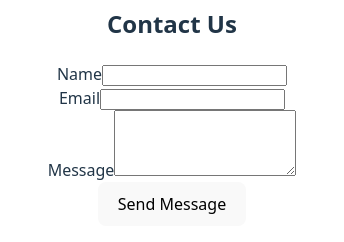
Test case: ContactForm Component › shows success message after successful submission
Fill out and submit form
Type "John Doe" into the field with test id "name-input". click: x=195, y=76
box: [102, 65, 287, 86]
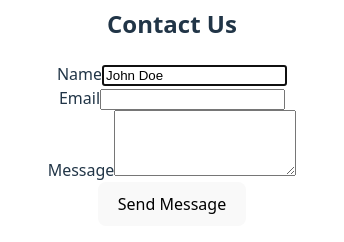
Type "john@example.com" into the field with test id "email-input". click: x=192, y=100
box: [100, 89, 285, 110]
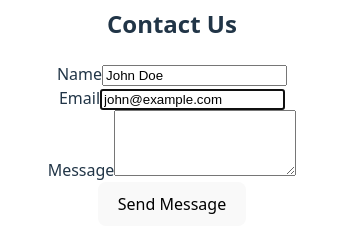
Type "Test message" into the text box with test id "message-input". click: x=205, y=143
box: [114, 110, 296, 176]
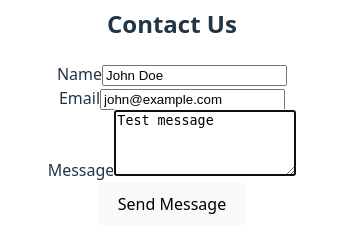
Click the button with test id "submit-button". click: x=172, y=204
box: [98, 182, 246, 226]
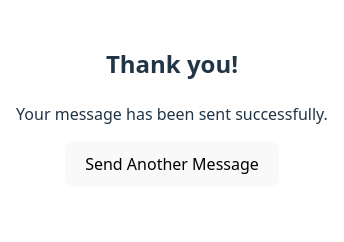
Expected: the element with test id "success-message" is shown, [16, 46, 328, 186]
Expected: the heading "Thank you!" is shown, [106, 47, 238, 80]
Expected: the text "Your message has been sent successfully." is shown, [16, 102, 328, 126]
